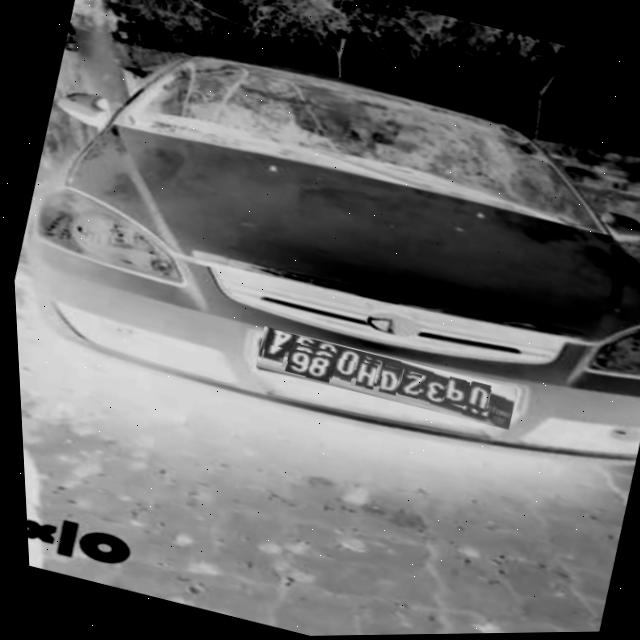0: (325, 358, 352, 387)
2: (392, 372, 418, 400)
3: (416, 377, 443, 405)
4: (256, 344, 282, 371)
8: (300, 352, 331, 384)
9: (279, 348, 309, 377)
D: (372, 367, 397, 397)
H: (349, 362, 375, 391)
IND: (481, 384, 513, 413)
Indian_registered: (257, 328, 509, 431)
P: (438, 379, 465, 408)
U: (460, 383, 487, 414)
